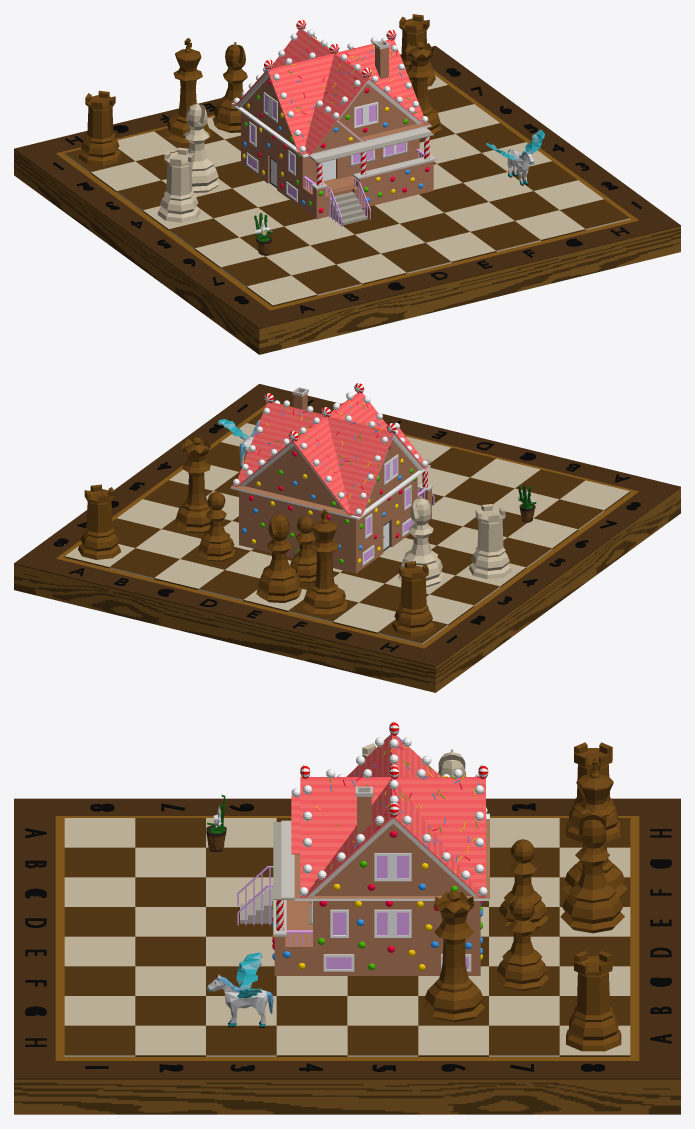
3 views of the same model, one above another, from view 1: azimuth 30°, elevation 25°; view 2: azimuth 150°, elevation 25°; view 3: azimuth 270°, elevation 25° (orthographic). The views are drawn at different scales.
Visible parts, largest first — view 1: Cube.002, Cube.1203, ANIMAL_PEGASO, OBJRANDOM_MONJA BLANCA; view 2: Cube.002, Cube.1203, ANIMAL_PEGASO, OBJRANDOM_MONJA BLANCA; view 3: Cube.002, Cube.1203, ANIMAL_PEGASO, OBJRANDOM_MONJA BLANCA.
Part boxes in pixels (<box>): Cube.002: <box>14,14,680,354</box>; Cube.1203: <box>231,19,436,226</box>; ANIMAL_PEGASO: <box>486,129,544,185</box>; OBJRANDOM_MONJA BLANCA: <box>254,213,272,255</box>; Cube.002: <box>14,384,680,692</box>; Cube.1203: <box>230,383,434,573</box>; ANIMAL_PEGASO: <box>218,419,259,468</box>; OBJRANDOM_MONJA BLANCA: <box>518,485,536,522</box>; Cube.002: <box>14,742,680,1114</box>; Cube.1203: <box>237,721,489,975</box>; ANIMAL_PEGASO: <box>207,952,273,1027</box>; OBJRANDOM_MONJA BLANCA: <box>206,795,226,851</box>.
Size of the model in its own units: 3981 by 1464 by 4012.
Materials: 39 (3 with a texture image).
